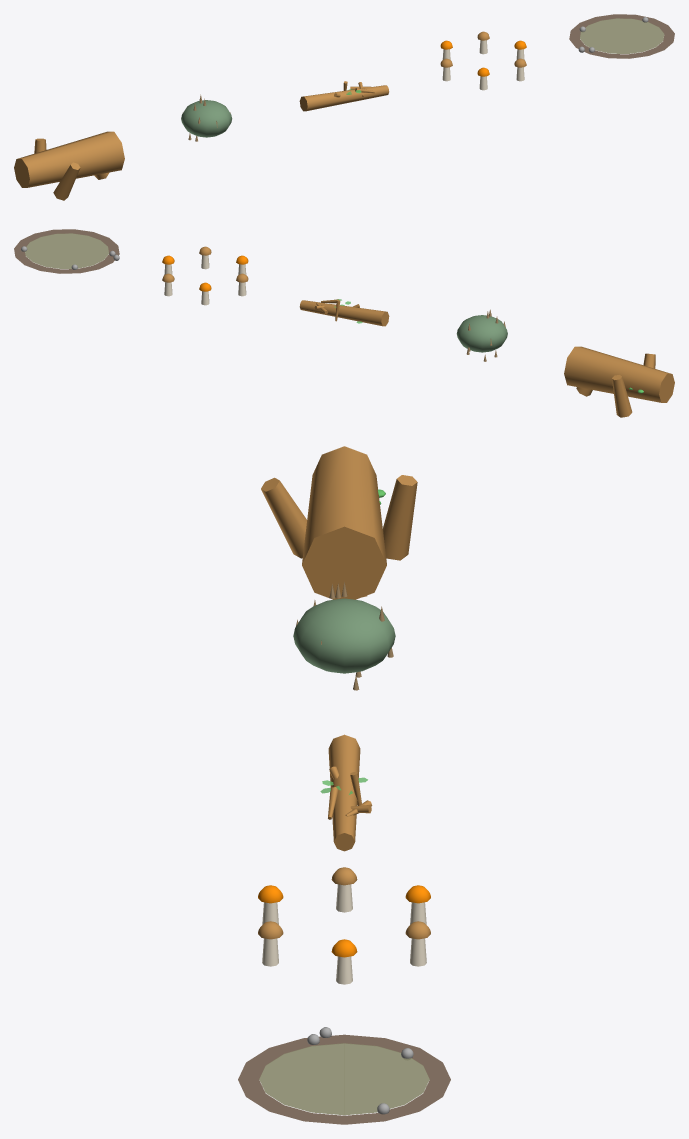
Rendered from obstacles_forest_mobile.glb.
3 views of the same model, one above another, from view 1: azimuth 30°, elevation 25°; view 2: azimuth 150°, elevation 25°; view 3: azimuth 270°, elevation 25° (orthographic). The views are drawn at different scales.
Visible parts, largest first — view 1: treeRoot_mesh (×2), puddlePatch_mesh (×2), thornBush_mesh, fallenBranch_mesh; view 2: treeRoot_mesh (×2), puddlePatch_mesh (×2), thornBush_mesh, fallenBranch_mesh; view 3: puddlePatch_mesh (×2), treeRoot_mesh (×3), thornBush_mesh, fallenBranch_mesh.
Part boxes in pixels (x1,y1,x2,y2): treeRoot_mesh (×2): [14, 131, 124, 200]; puddlePatch_mesh (×2): [569, 14, 674, 58]; thornBush_mesh: [181, 100, 232, 137]; fallenBranch_mesh: [299, 85, 389, 111]; treeRoot_mesh (×2): [564, 346, 674, 417]; puddlePatch_mesh (×2): [14, 229, 119, 273]; thornBush_mesh: [456, 315, 507, 352]; fallenBranch_mesh: [299, 300, 389, 326]; puddlePatch_mesh (×2): [238, 1034, 450, 1124]; treeRoot_mesh (×3): [261, 446, 417, 599]; thornBush_mesh: [293, 598, 395, 673]; fallenBranch_mesh: [328, 734, 360, 851].
Size of the model in its own units: 14 by 1.23 by 2.
